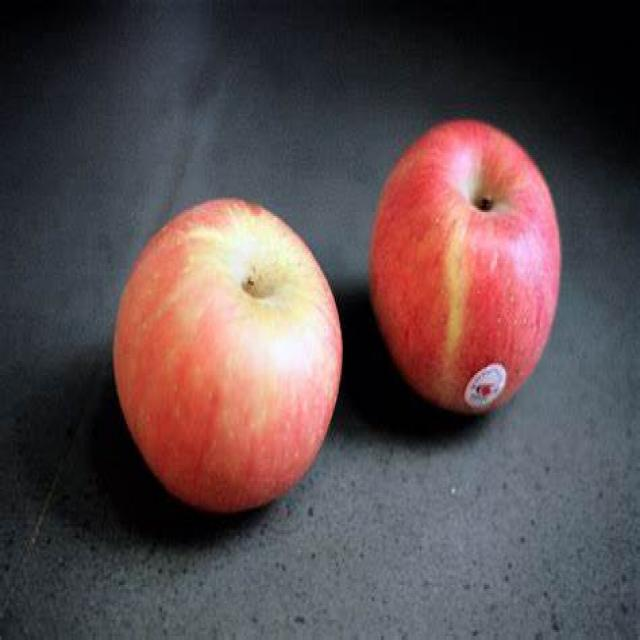Apple: (109, 190, 347, 504), (374, 117, 565, 431)
